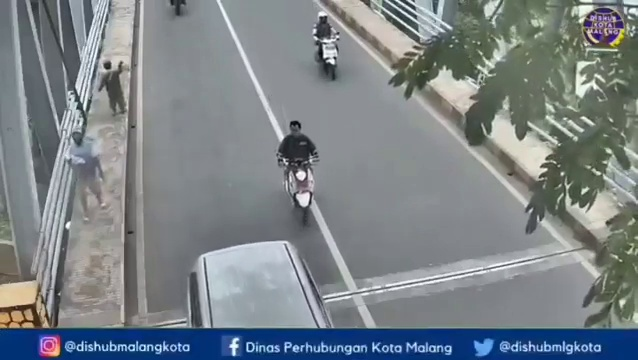motorbike: (278, 116, 314, 226), (312, 12, 341, 83)
